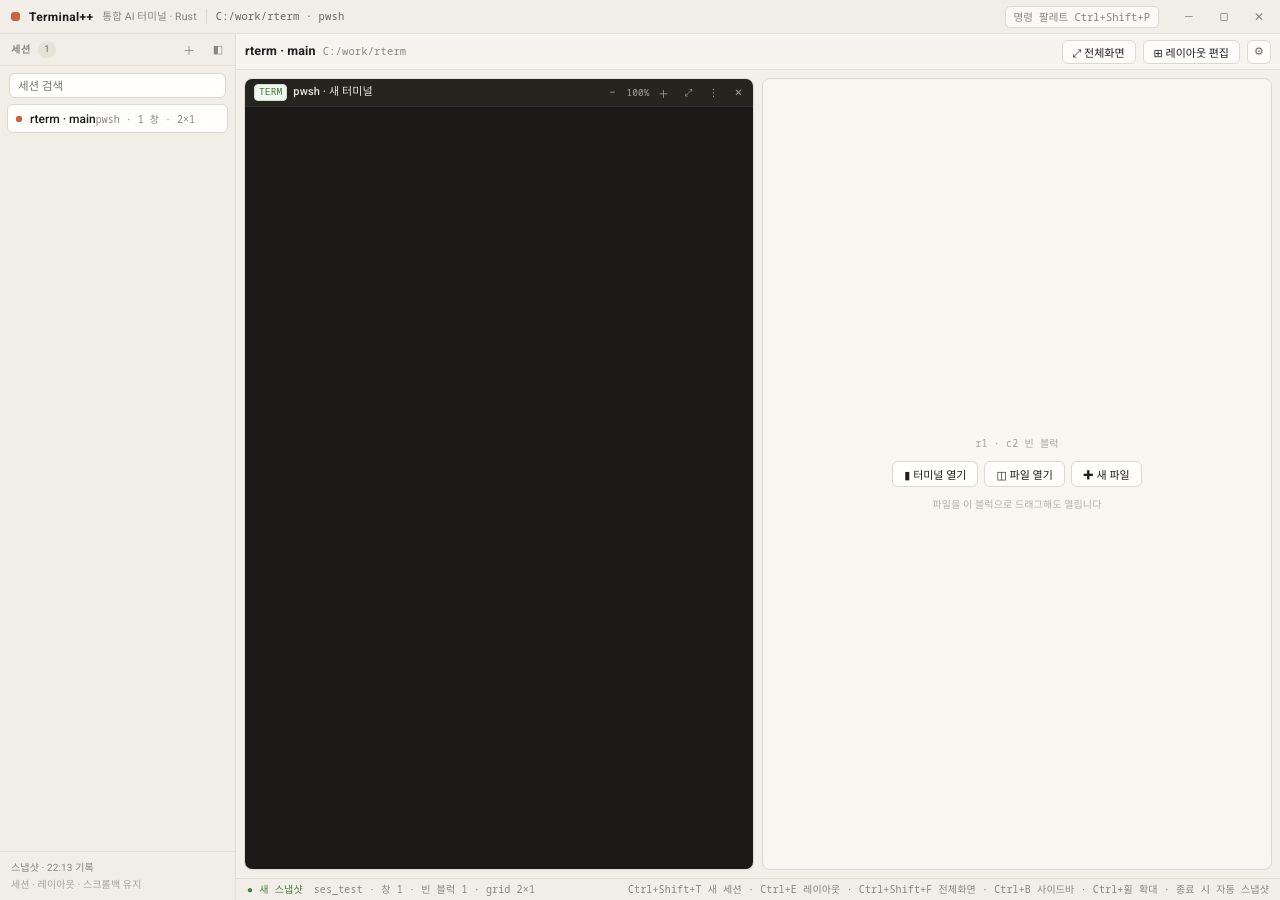
Test: 앱 껍데기 › 빈 블럭의 새 파일 버튼이 만들기 창을 그 블럭에 대고 연다
The width and height of the screenshot is (1280, 900).
Click the button "✚ 새 파일". click: point(1106, 474)
box: [1071, 461, 1142, 487]
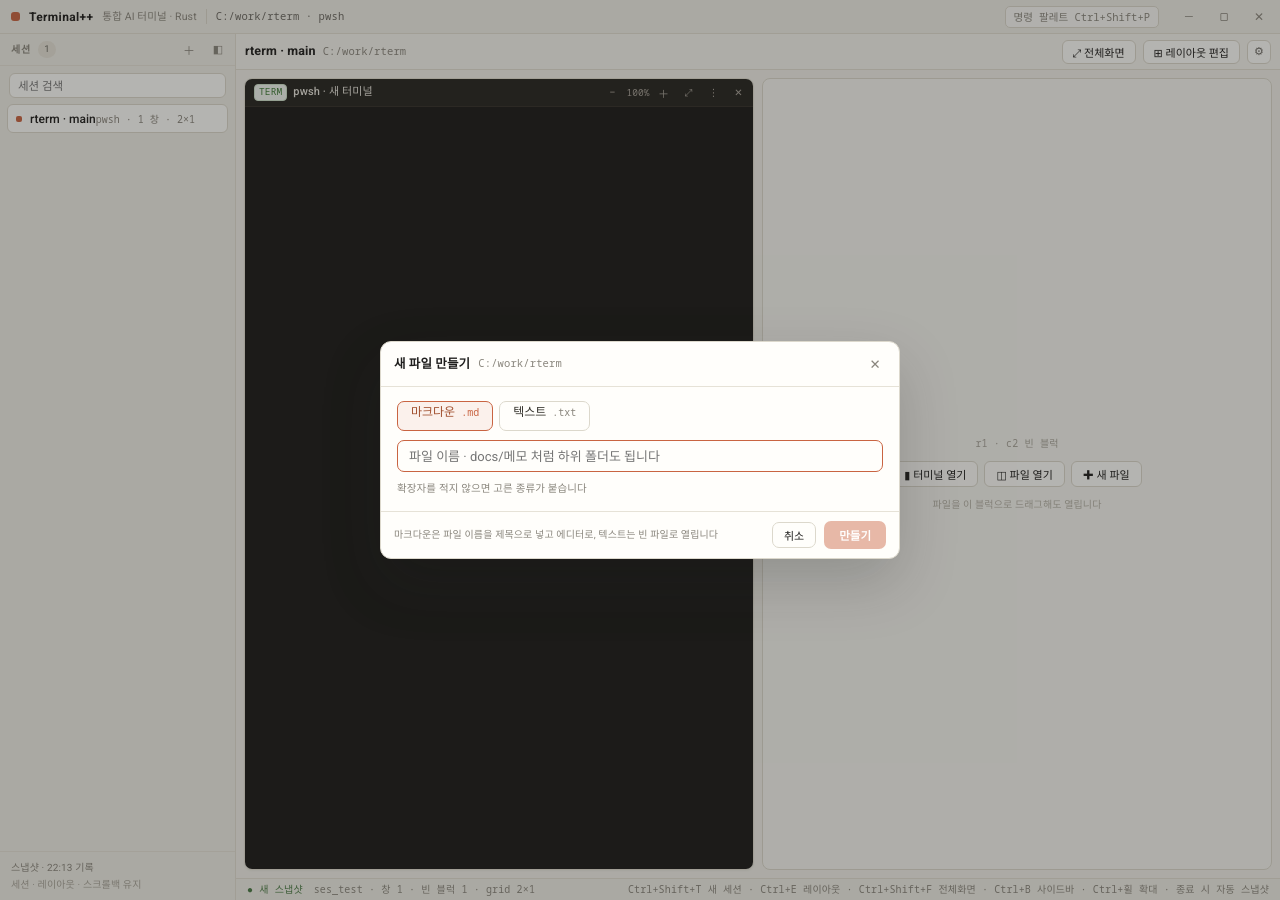
expect the text "새 파일 만들기" is shown: met, box [394, 355, 470, 374]
